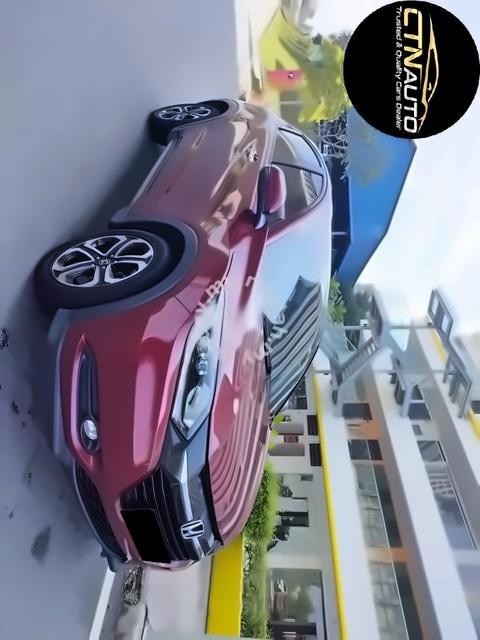Car hood: (206, 245, 275, 549)
Driver-s door - -F-R-: (103, 157, 332, 235)
Fender - -F-R-: (116, 204, 261, 319)
Front bumper: (38, 286, 208, 585)
Headlight - -R-: (169, 283, 224, 446)
Passenger-s door - -R-R-: (149, 116, 328, 176)
Side bumper - -R-: (101, 117, 195, 233)
Side mirror - -R-: (250, 159, 287, 234)
